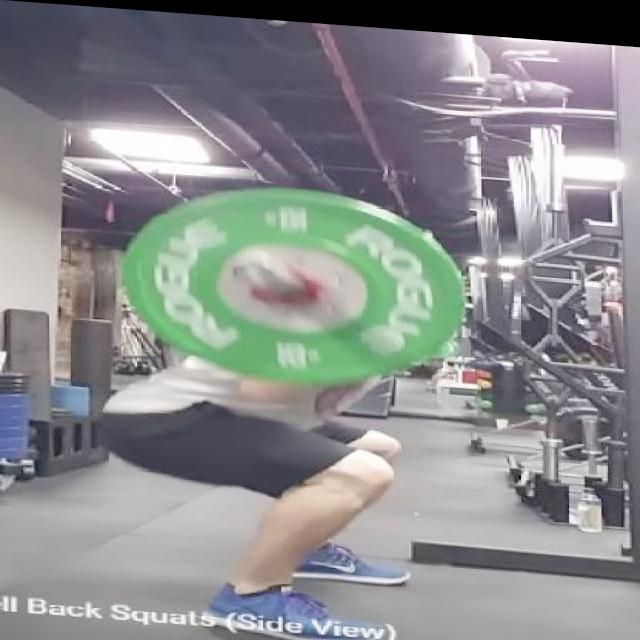barbell: (117, 169, 473, 391)
